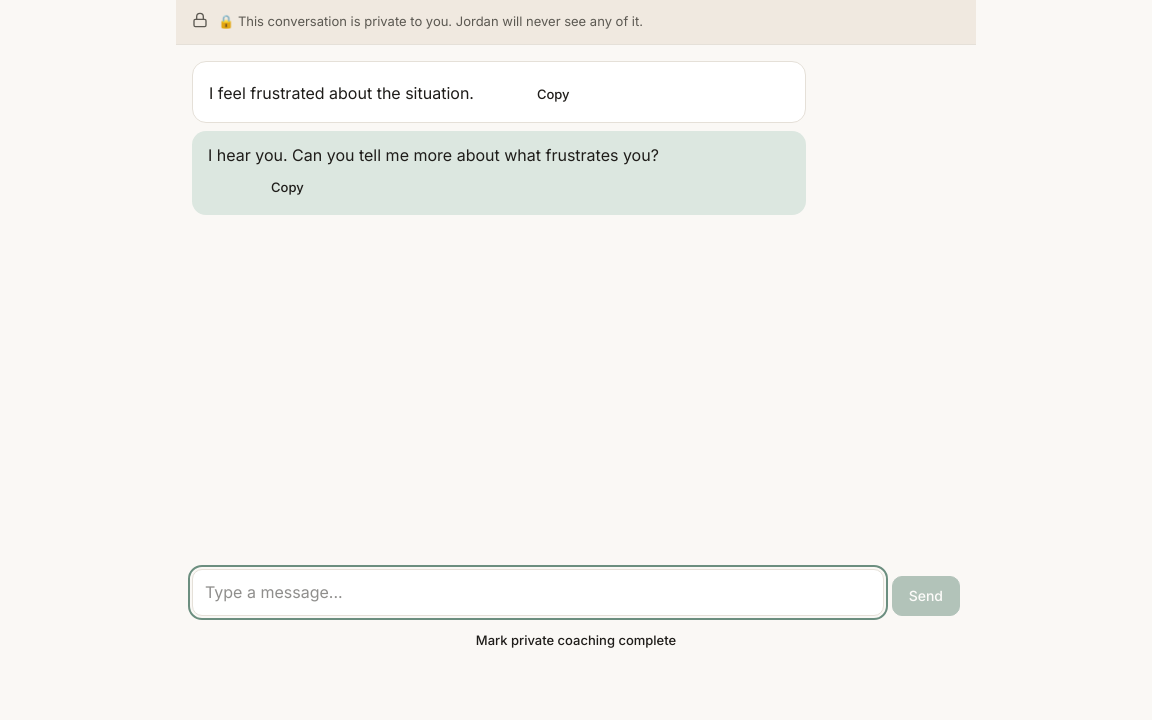
AC: Mark Complete opens confirmation dialog with message count and party name › dialog includes other party name
What coordinates should you click on to do the following:
click the button "Mark private coaching complete"
I would click on:
 (576, 640)
Its box is [463,624,689,656].
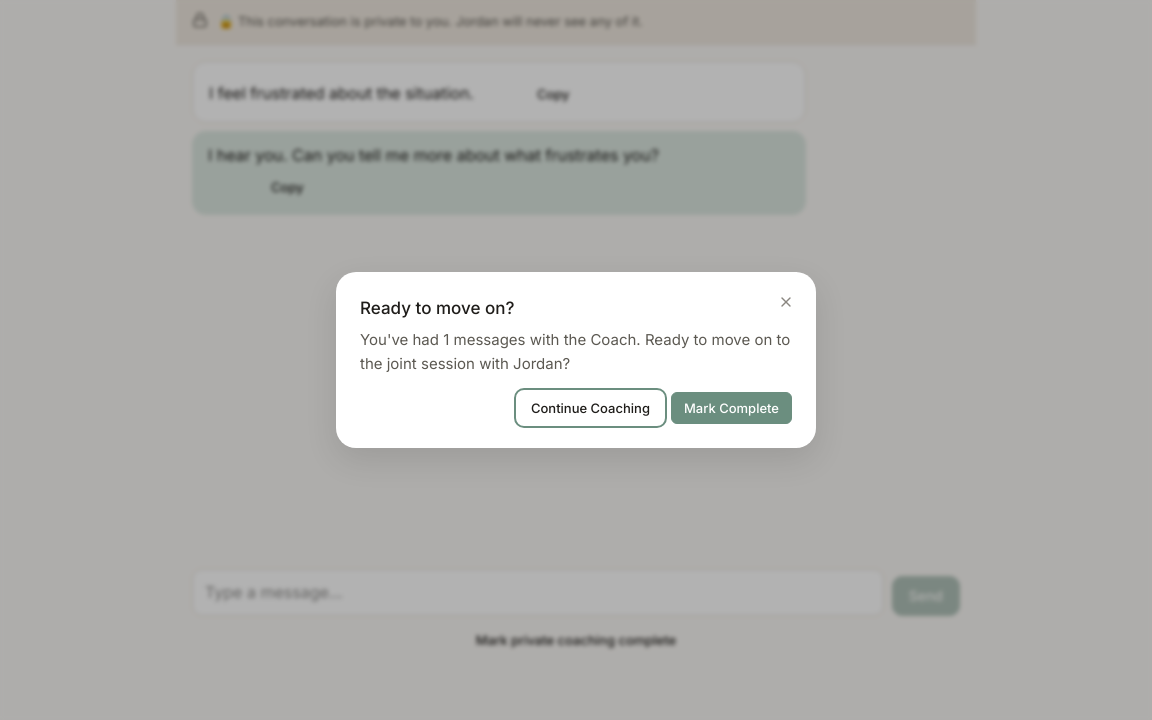
Expected: the text "joint session with jordan" is shown, [360,328,792,376]
